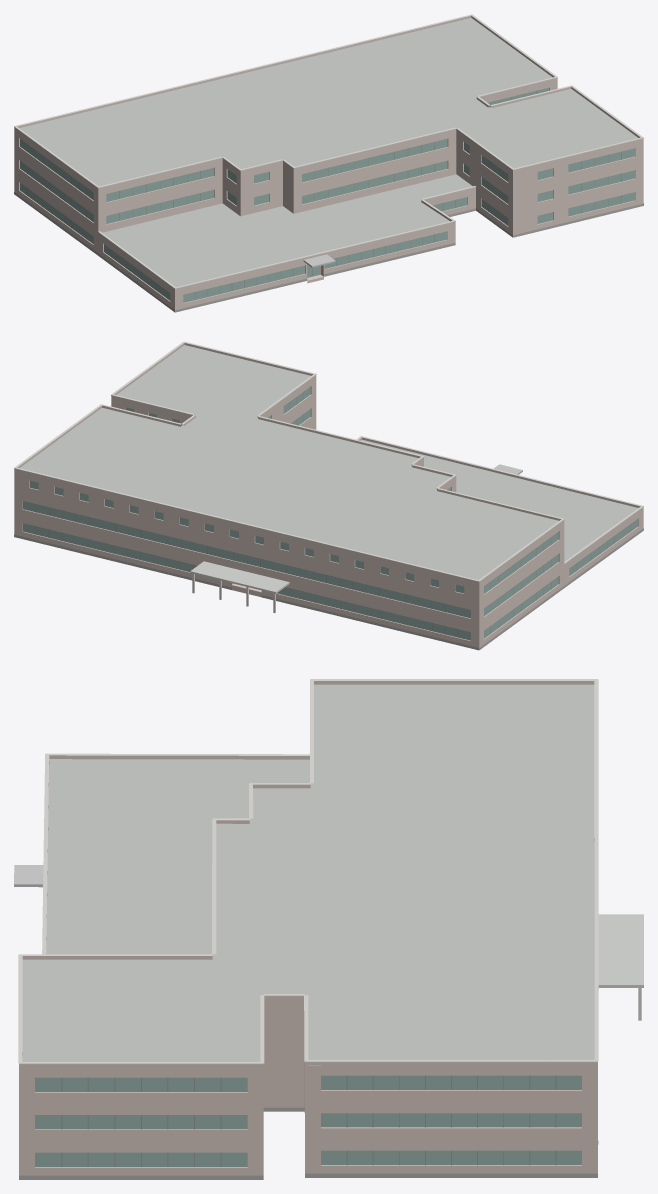
3 views of the same model, one above another, from view 1: azimuth 30°, elevation 25°; view 2: azimuth 150°, elevation 25°; view 3: azimuth 270°, elevation 25° (orthographic). The views are drawn at different scales.
Visible parts, largest first — view 1: b743648655__roof, b743648655__wall, b743648655__glass, b743648655__trim, b743648655__parapet, b743648655__base, b743648655__frame; view 2: b743648655__roof, b743648655__wall, b743648655__glass, b743648655__trim, b743648655__parapet, b743648655__base, b743648655__canopyTop, b743648655__frame; view 3: b743648655__roof, b743648655__wall, b743648655__glass, b743648655__trim, b743648655__parapet, b743648655__canopyTop, b743648655__base, b743648655__frame.
Boxes of the visible parts, x1,y1,x2,y2 form: b743648655__roof: [19, 18, 637, 286]; b743648655__wall: [14, 79, 643, 312]; b743648655__glass: [20, 87, 634, 302]; b743648655__trim: [14, 14, 643, 288]; b743648655__parapet: [14, 15, 643, 290]; b743648655__base: [14, 192, 643, 312]; b743648655__frame: [27, 90, 621, 299]; b743648655__roof: [19, 345, 637, 597]; b743648655__wall: [14, 376, 643, 649]; b743648655__glass: [23, 387, 637, 640]; b743648655__trim: [14, 341, 643, 593]; b743648655__parapet: [14, 343, 643, 583]; b743648655__base: [14, 528, 643, 650]; b743648655__canopyTop: [190, 561, 289, 591]; b743648655__frame: [35, 392, 630, 637]; b743648655__roof: [22, 684, 594, 1113]; b743648655__wall: [19, 999, 597, 1175]; b743648655__glass: [35, 1075, 581, 1166]; b743648655__trim: [18, 679, 643, 1064]; b743648655__parapet: [19, 681, 597, 1066]; b743648655__canopyTop: [598, 914, 643, 984]; b743648655__base: [19, 1107, 598, 1179]; b743648655__frame: [61, 1075, 556, 1166].
Size of the model in its own units: 79.21 by 11.55 by 54.77.
